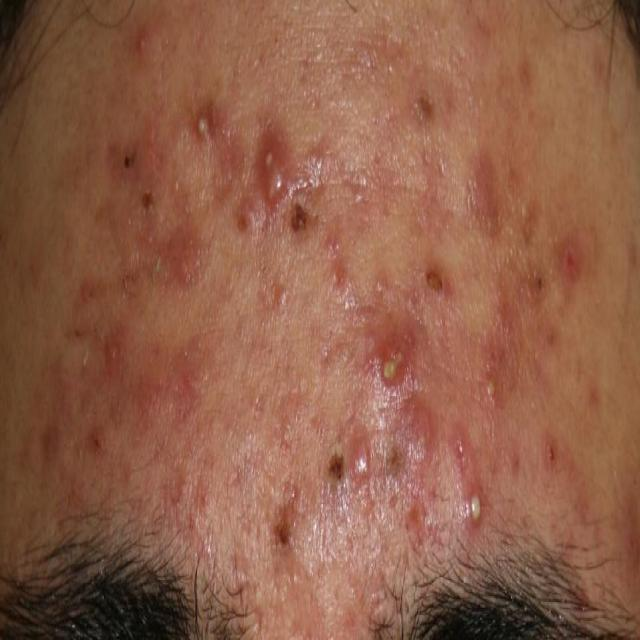8: (394, 412, 436, 487), (346, 418, 376, 516)
9: (462, 469, 497, 552), (129, 7, 156, 91), (186, 92, 216, 164), (483, 368, 513, 440)
papules: (364, 327, 424, 402), (255, 127, 290, 231), (162, 231, 214, 292)
